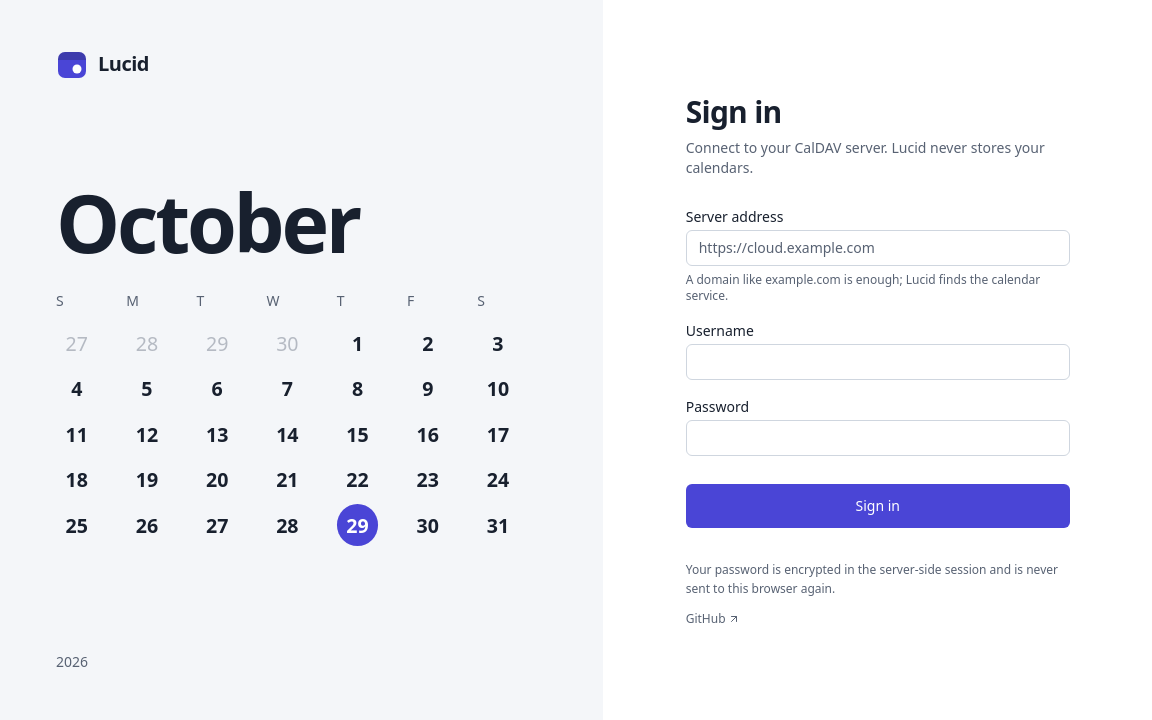
LoginPage › shows the reference of a rejected login, and drops it with the next error
In the field labelled "Server address": (878, 248) [686,230,1070,266], type "example.com"
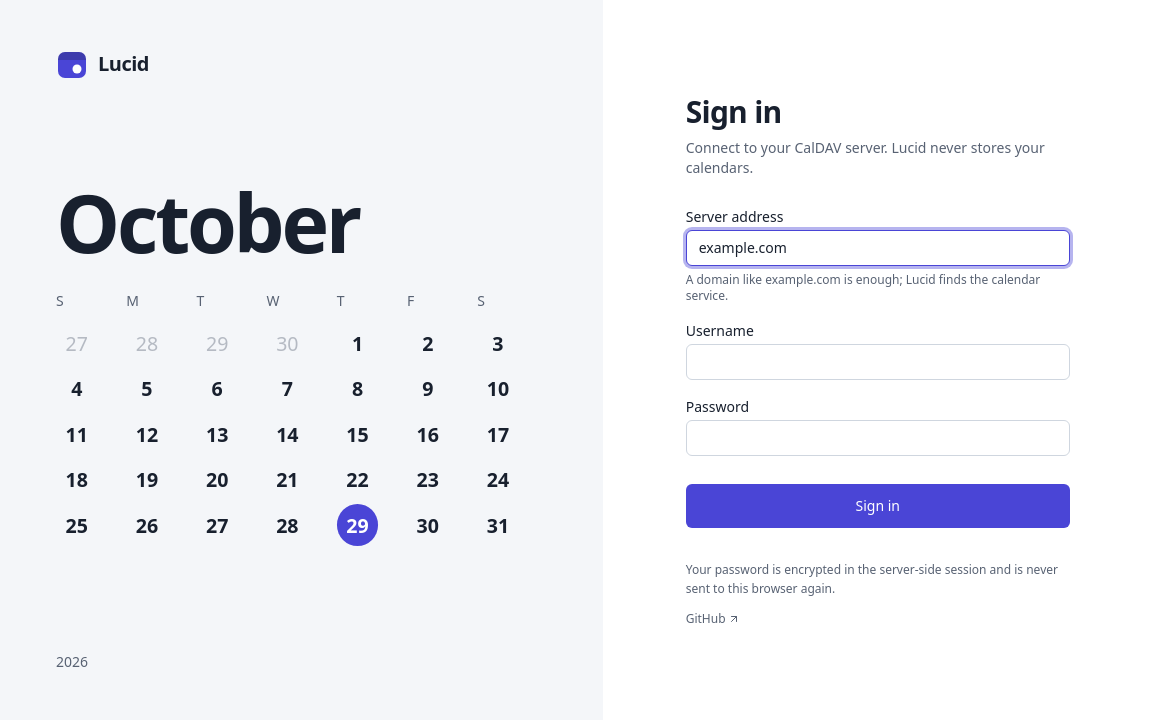
In the field labelled "Username": (878, 362) [686,344,1070,380], type "tim"
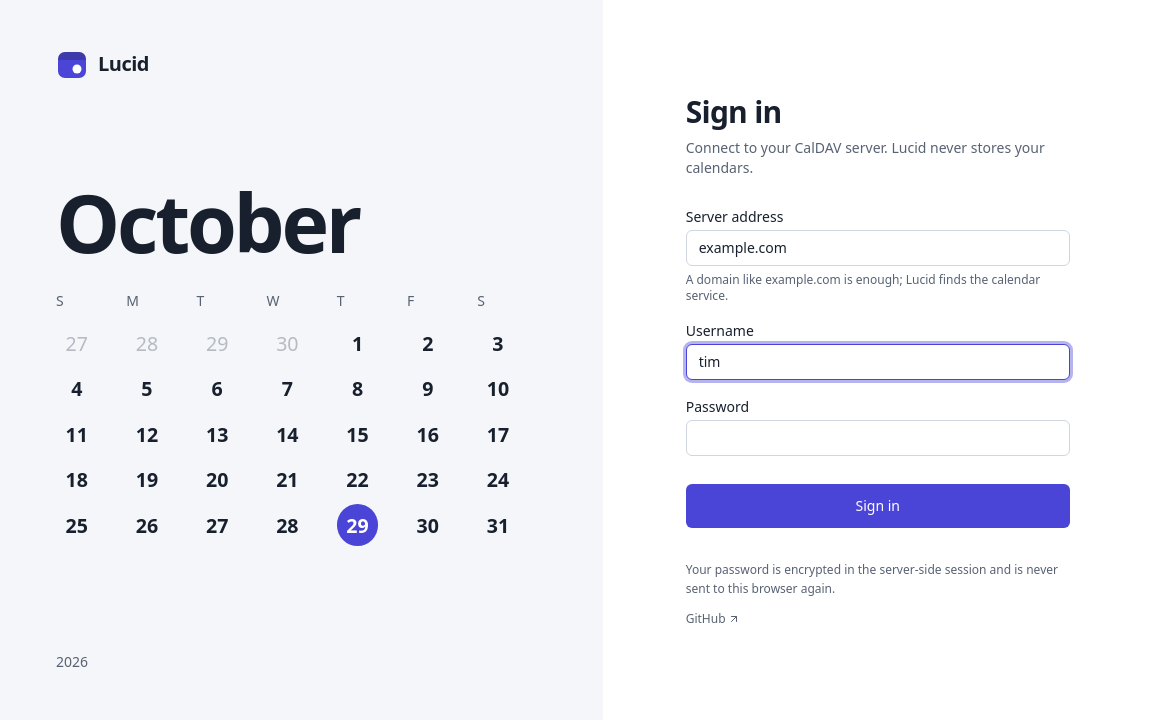
In the password field labelled "Password": (878, 438) [686,420,1070,456], type "wrong"
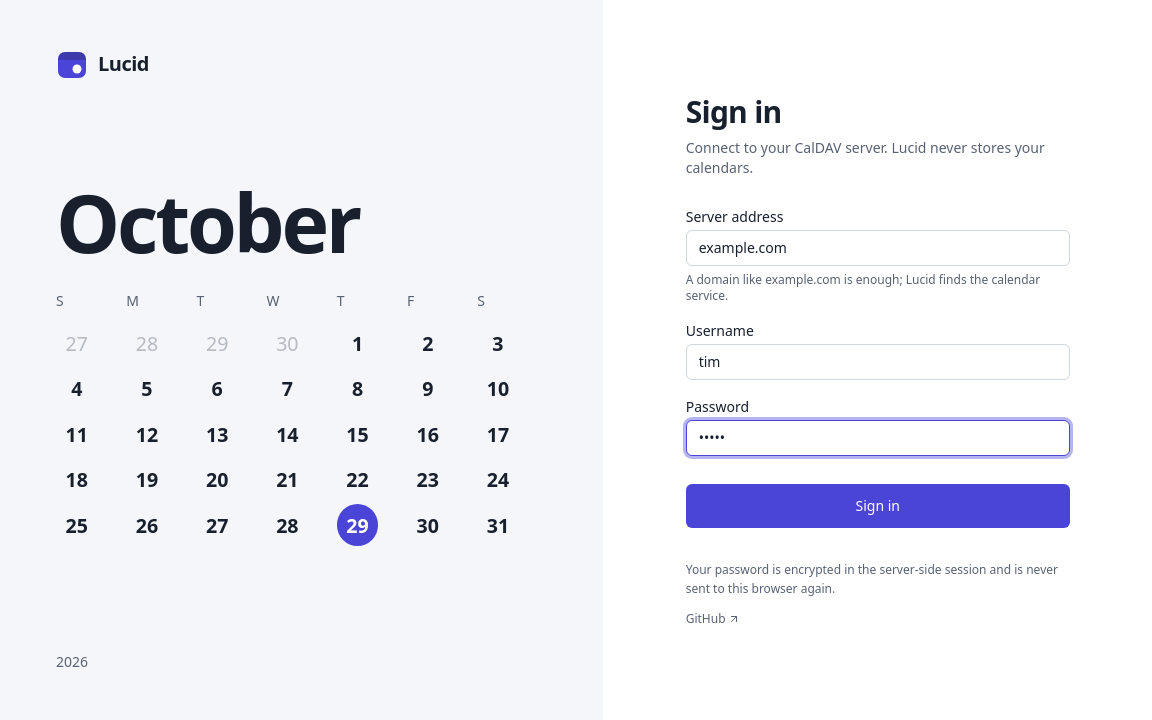
Click the button "Sign in": (878, 506) [686,484,1070,528]
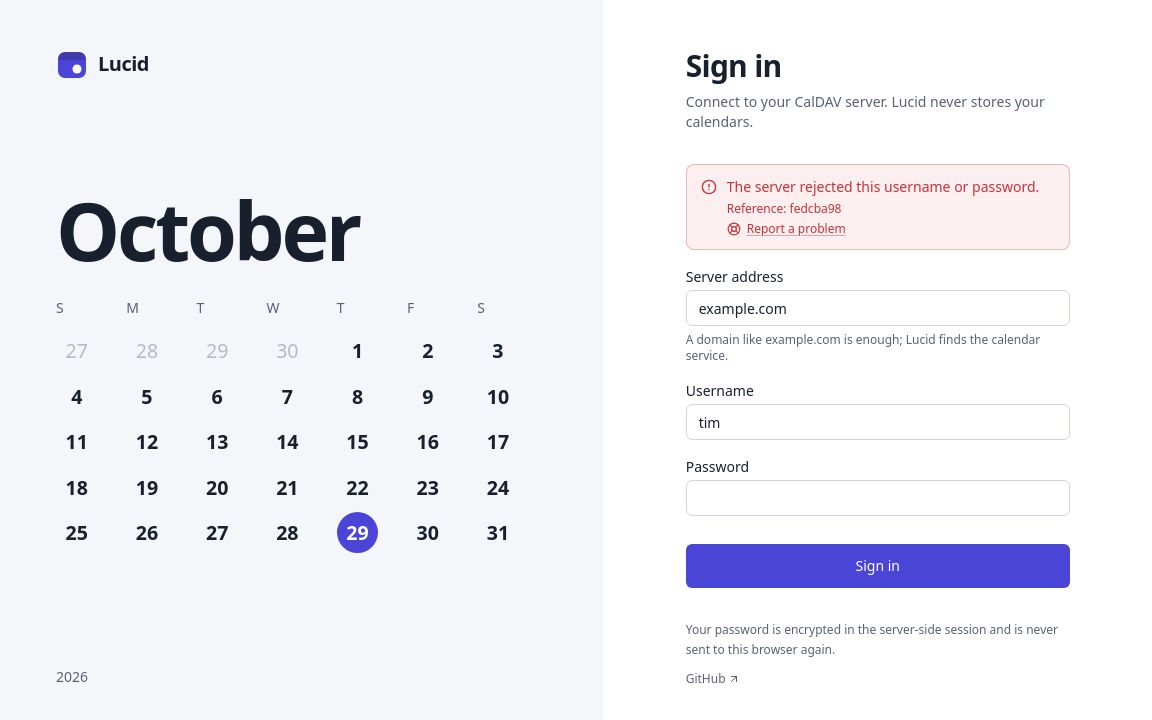
Now the message shows "Reference: fedcba98", box [727,200,842,217]
In the password field labelled "Password": (878, 498) [686,480,1070,516], type "again"
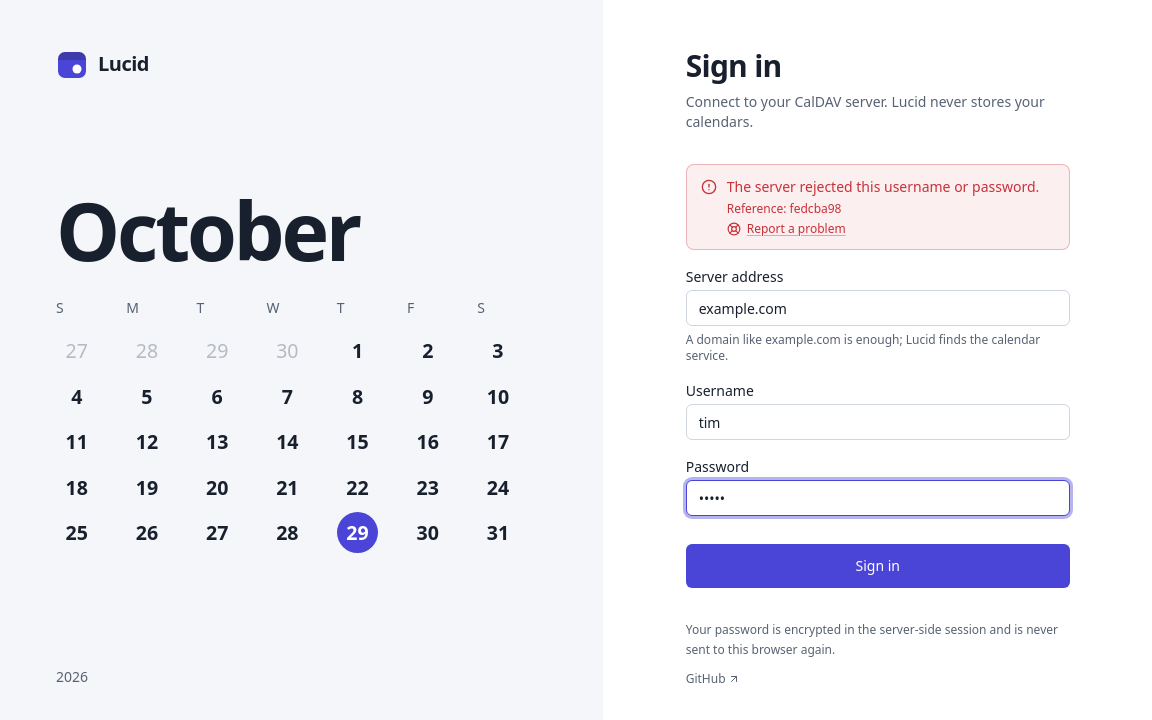
Click the button "Sign in": (878, 566) [686,544,1070,588]
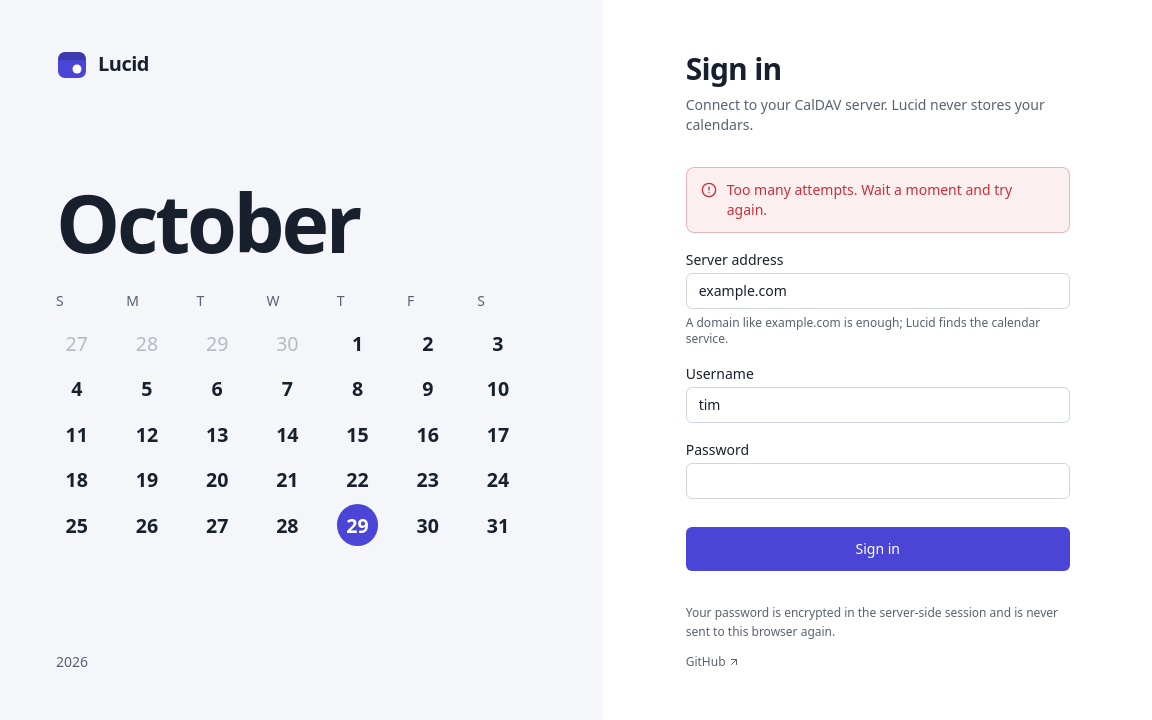
Now the message shows "Too many attempts", box [727,180,1012,218]
Now the message no longer shows "Reference", box [686,166,1070,232]
